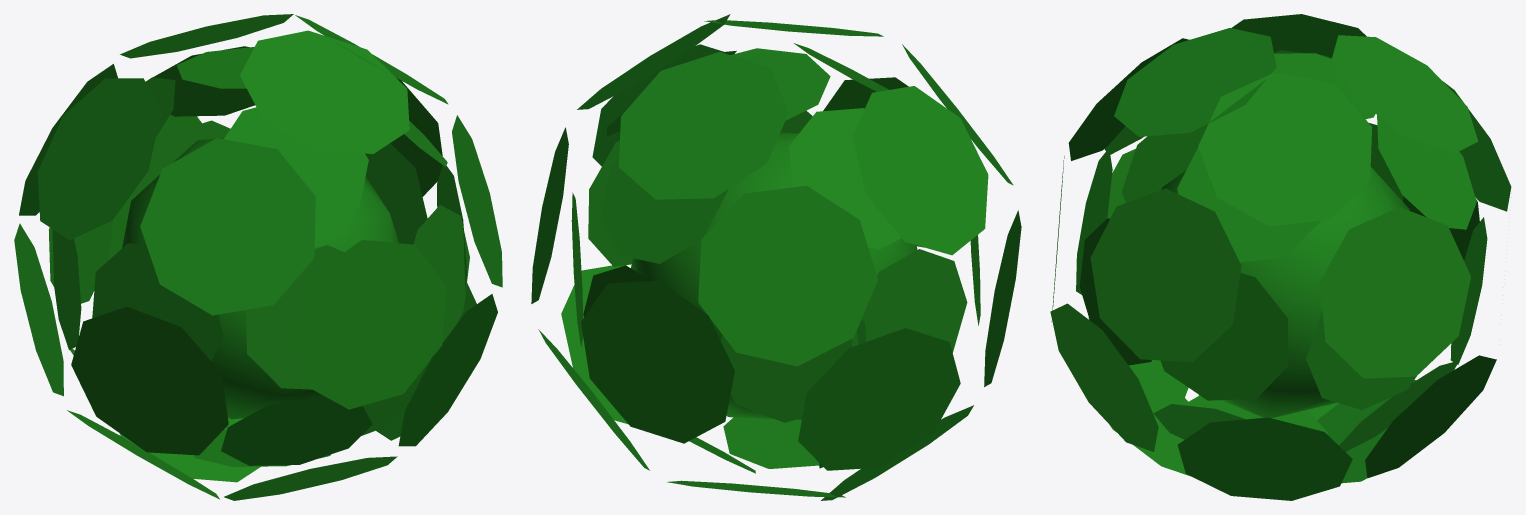
File: RoundLeaves.fbx
3 renders of one model, left to right at view 1: azimuth 30°, elevation 25°; view 2: azimuth 150°, elevation 25°; view 3: azimuth 270°, elevation 25°, orthographic. The views are drawn at different scales.
Parts seen in each view (by area): view 1: RoundLeaves; view 2: RoundLeaves; view 3: RoundLeaves.
Boxes of the visible parts, x1,y1,x2,y2 form: RoundLeaves: (14,14,502,500); RoundLeaves: (531,14,1021,500); RoundLeaves: (1050,14,1511,500).
Size of the model in its own units: 2051 by 2093 by 2011.
